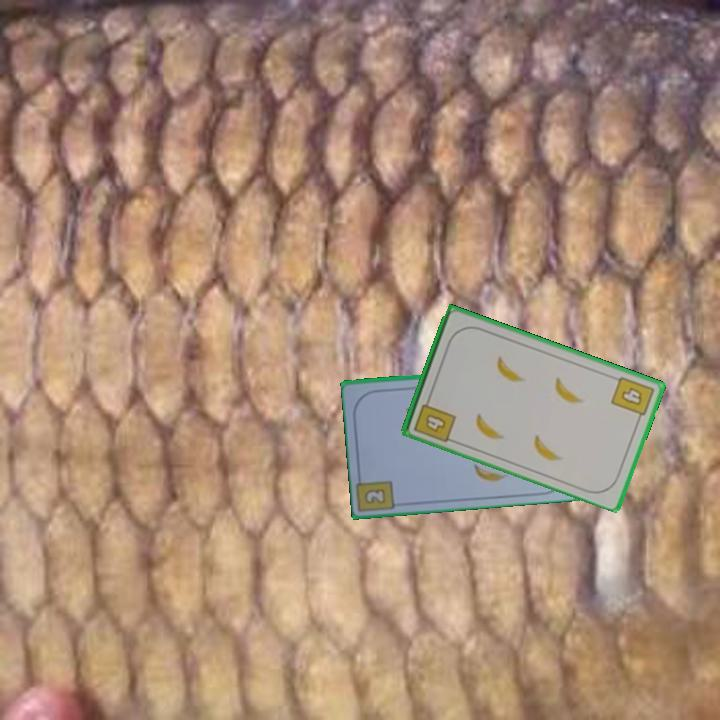2b: (363, 487, 386, 505)
4b: (607, 373, 657, 425), (411, 392, 459, 445)
